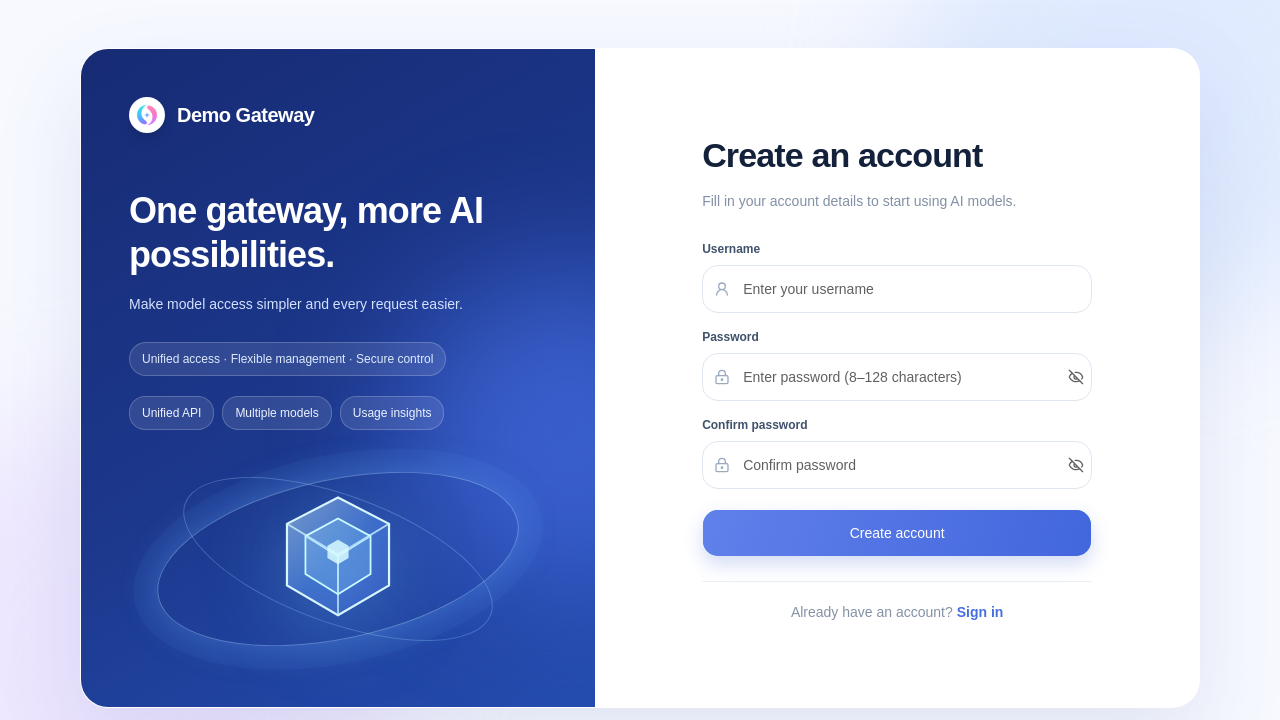
Test: validates password confirmation before sending a registration request
The width and height of the screenshot is (1280, 720).
In the field labelled "Username": (897, 289) [702,265,1092,313], type "new-user"
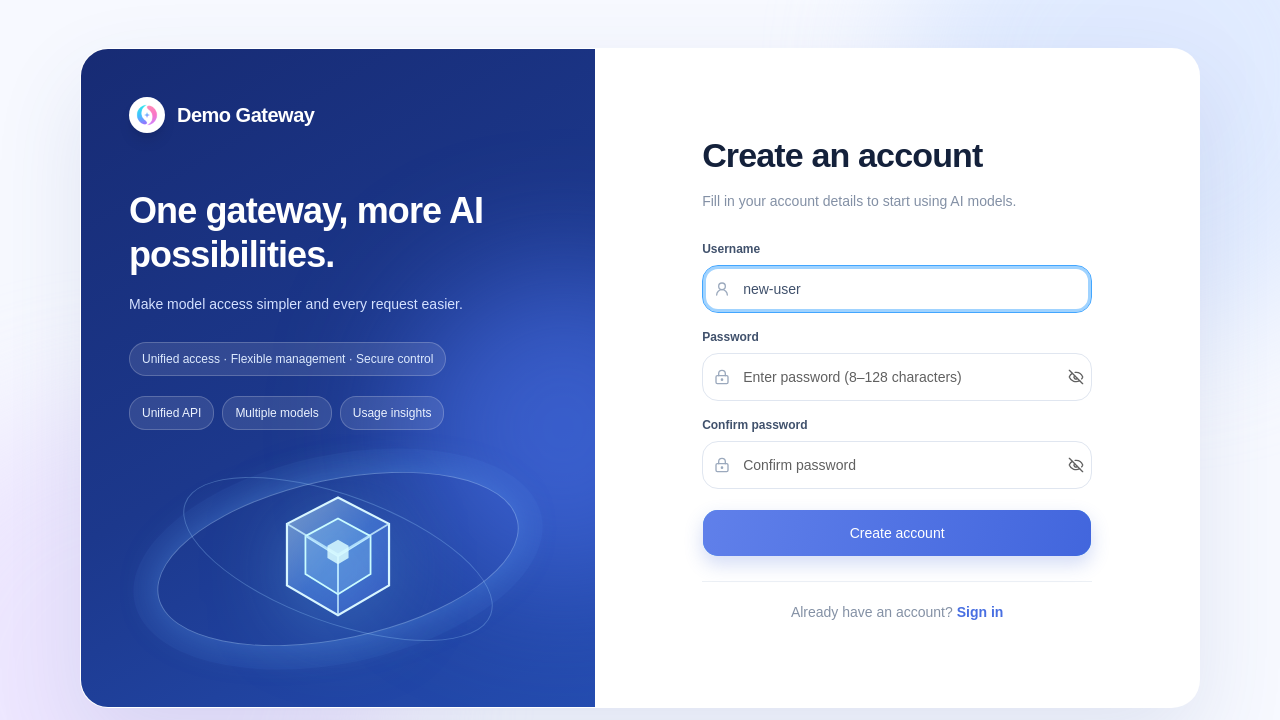
In the password field labelled "Password": (897, 377) [702,353,1092,401], type "LongPassword123!"
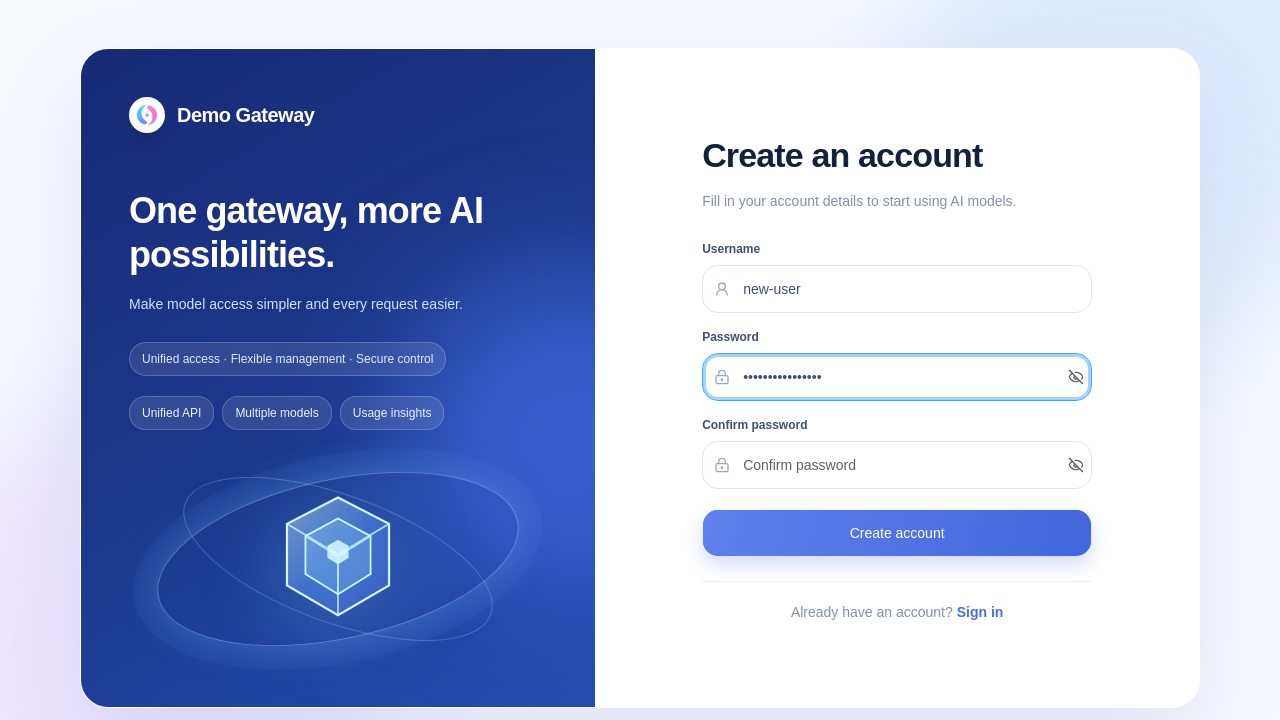
In the password field labelled "Confirm password": (897, 465) [702,441,1092,489], type "DifferentPassword123!"
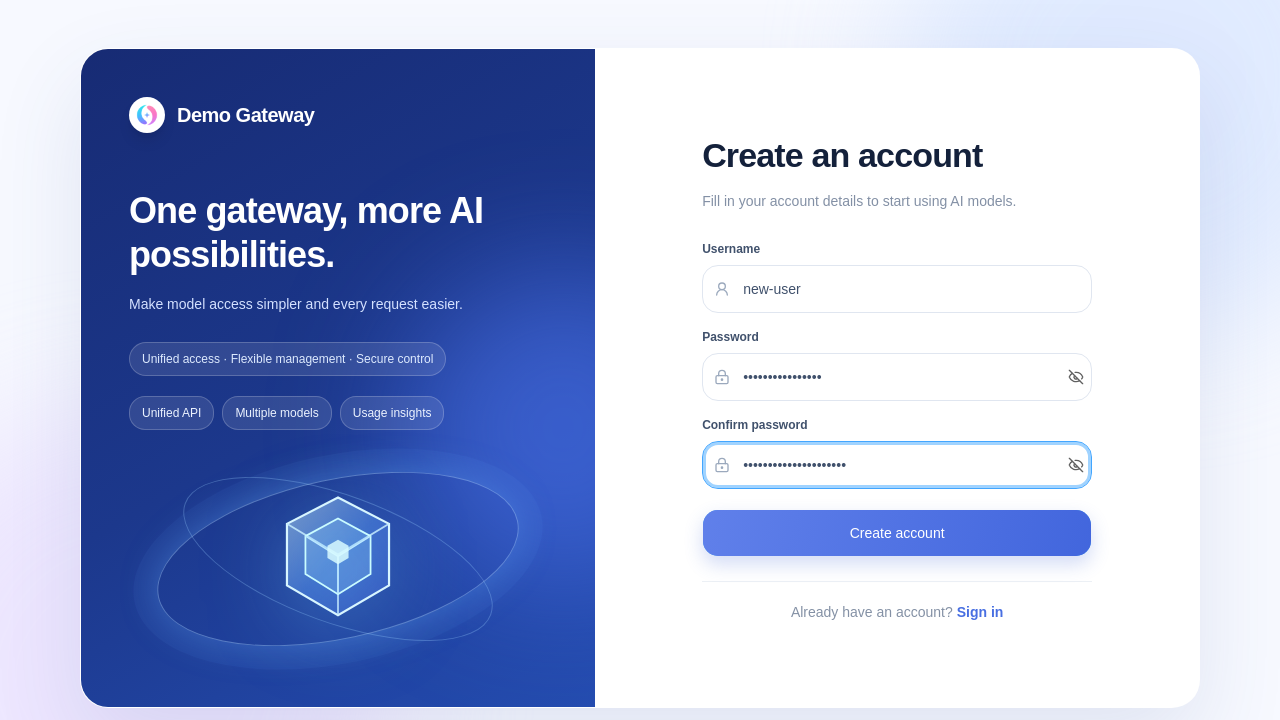
Click the button "Create account": (897, 533) [702,509,1092,557]
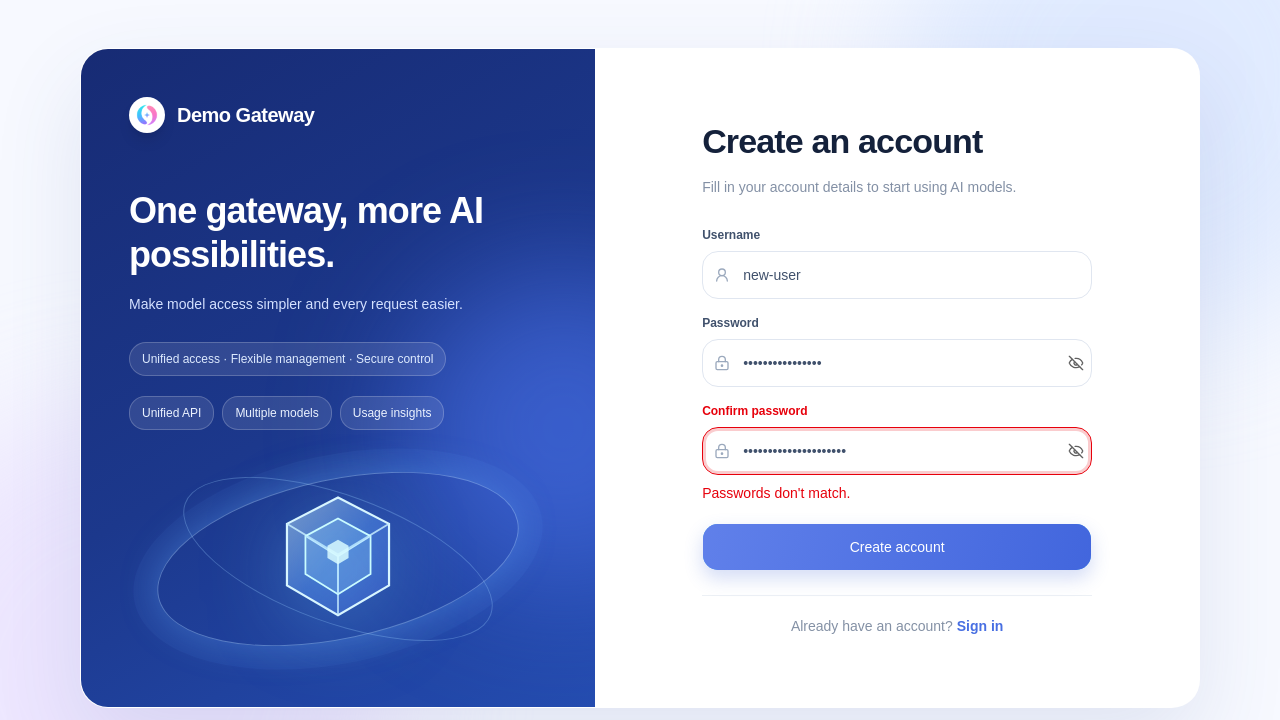
Now the text "Passwords don't match." is shown, box [702,485,850,501]
